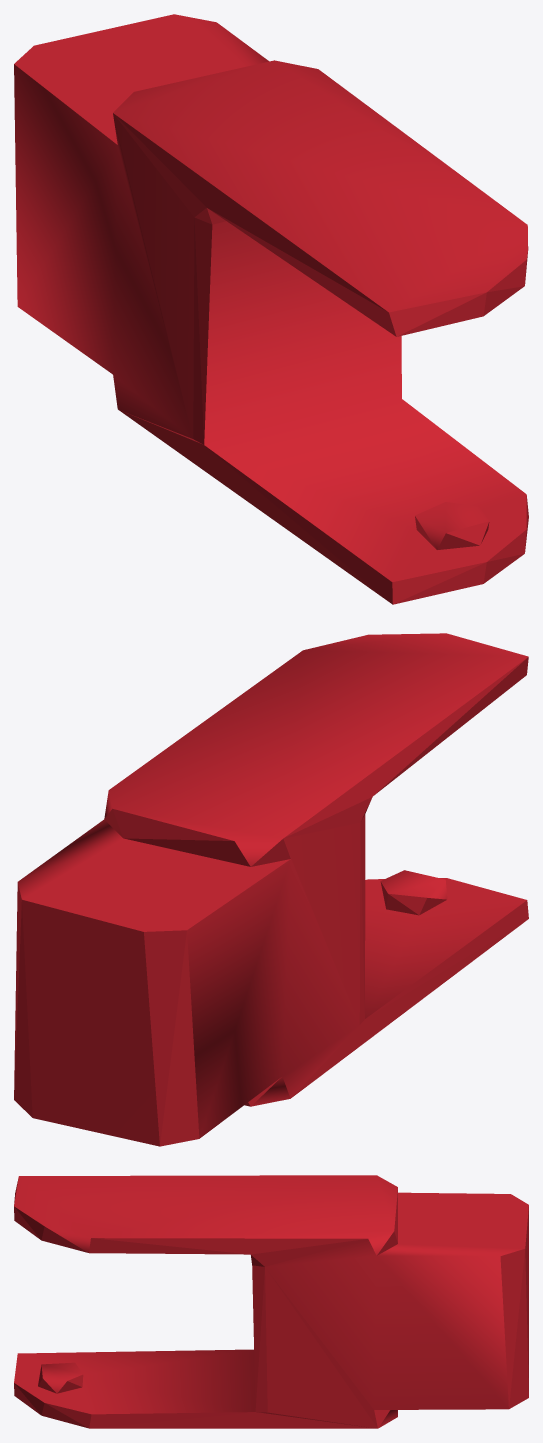
The model's file is 8_thumb.obj.
The picture shows the model from 3 angles, top to bottom: view 1: azimuth 30°, elevation 25°; view 2: azimuth 150°, elevation 25°; view 3: azimuth 270°, elevation 25°; orthographic projection. The views are drawn at different scales.
Parts seen in each view (by area): view 1: 8_thumb; view 2: 8_thumb; view 3: 8_thumb.
Boxes of the visible parts, left/top/right/bottom form: 8_thumb: left=14, top=14, right=528, bottom=604; 8_thumb: left=14, top=633, right=528, bottom=1146; 8_thumb: left=14, top=1175, right=528, bottom=1428.
Size of the model in its own units: 0.0196 by 0.027 by 0.0661.
